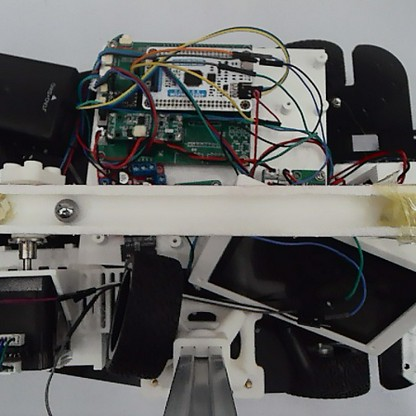ironball: (53, 196, 79, 224)
